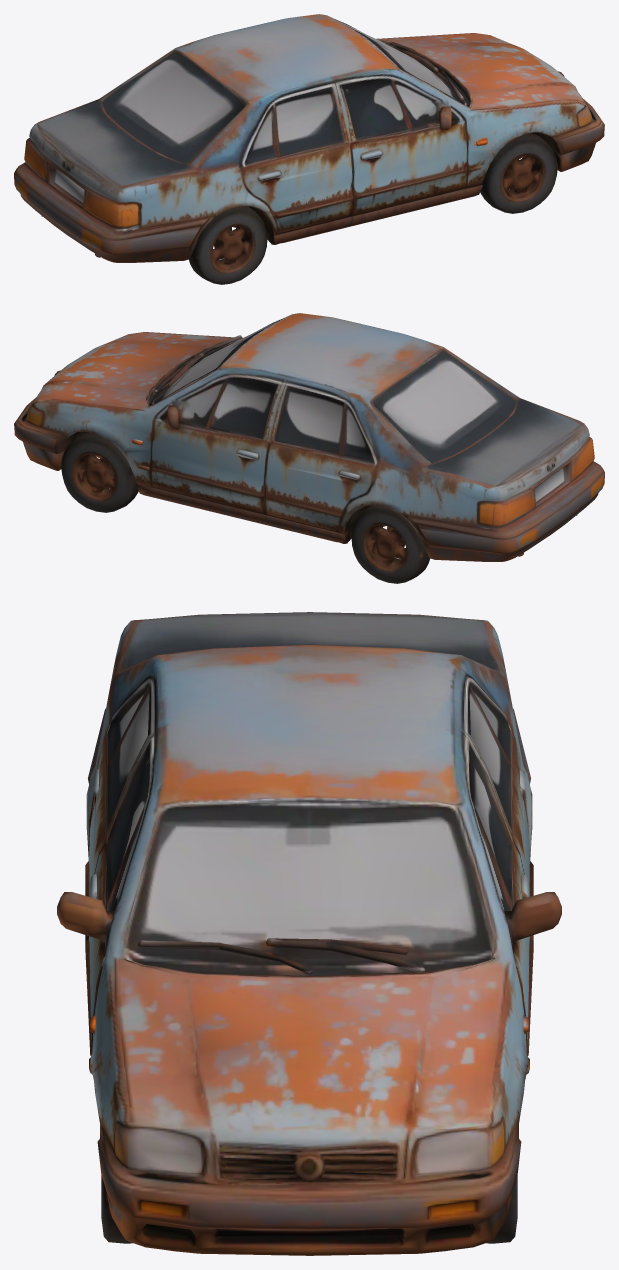
File: rusty_car_a9d09db5_v4.glb
3 views of the same model, one above another, from view 1: azimuth 30°, elevation 25°; view 2: azimuth 150°, elevation 25°; view 3: azimuth 270°, elevation 25° (orthographic). The views are drawn at different scales.
Visible parts, largest first — view 1: material; view 2: material; view 3: material.
Part boxes in pixels (left/top/right/bottom): material: left=14, top=14, right=604, bottom=284; material: left=14, top=313, right=604, bottom=583; material: left=57, top=612, right=561, bottom=1255.
Size of the model in its own units: 1.9 by 0.6034 by 0.8025.
Materials: 1 (1 with a texture image).
